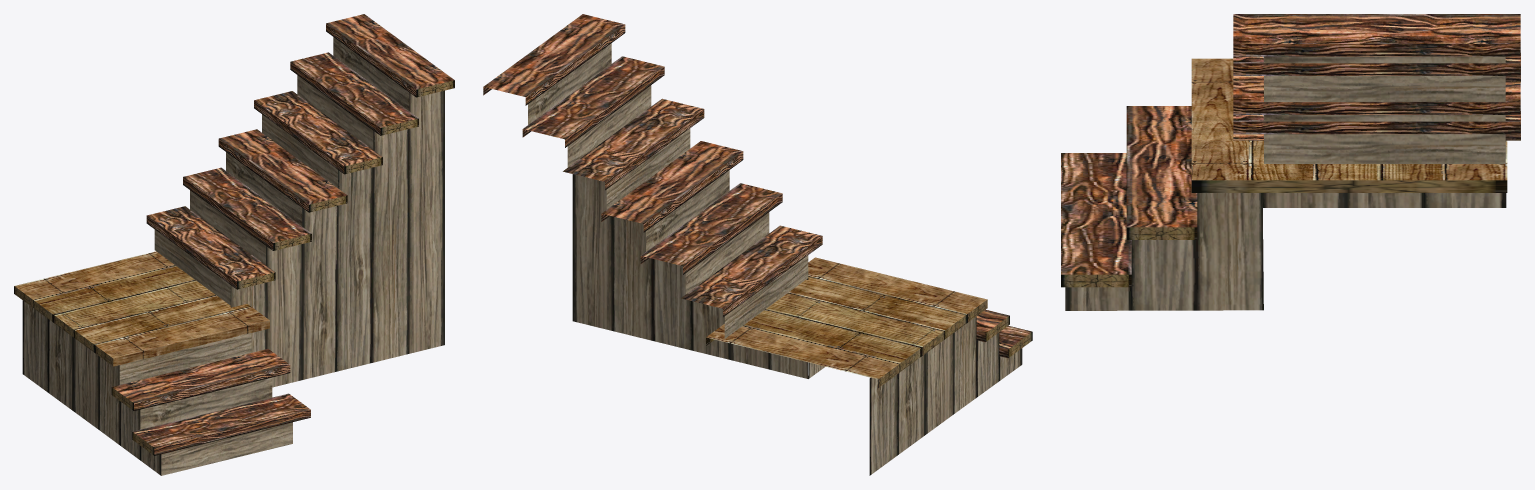
Rendered from LAKETOWN_GRANDMA_PS_GM_STAIR33.fbx.
3 views of the same model, side by side, from view 1: azimuth 30°, elevation 25°; view 2: azimuth 150°, elevation 25°; view 3: azimuth 270°, elevation 25° (orthographic). The views are drawn at different scales.
Visible parts, largest first — view 1: LAKETOWN_GRANDMA_PS_GM_STAIR33; view 2: LAKETOWN_GRANDMA_PS_GM_STAIR33; view 3: LAKETOWN_GRANDMA_PS_GM_STAIR33.
Part boxes in pixels (left/top/right/bottom): LAKETOWN_GRANDMA_PS_GM_STAIR33: left=14, top=14, right=454, bottom=475; LAKETOWN_GRANDMA_PS_GM_STAIR33: left=483, top=14, right=1032, bottom=475; LAKETOWN_GRANDMA_PS_GM_STAIR33: left=1061, top=14, right=1520, bottom=310.
Bounding box in the file's own units: 33189 × 24396 × 23438.
Materials: 5 (5 with a texture image).
